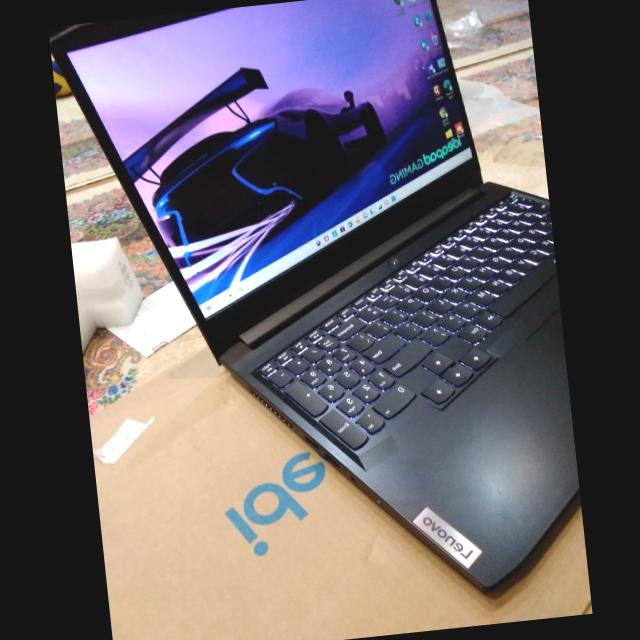laptop: (53, 0, 579, 588)
